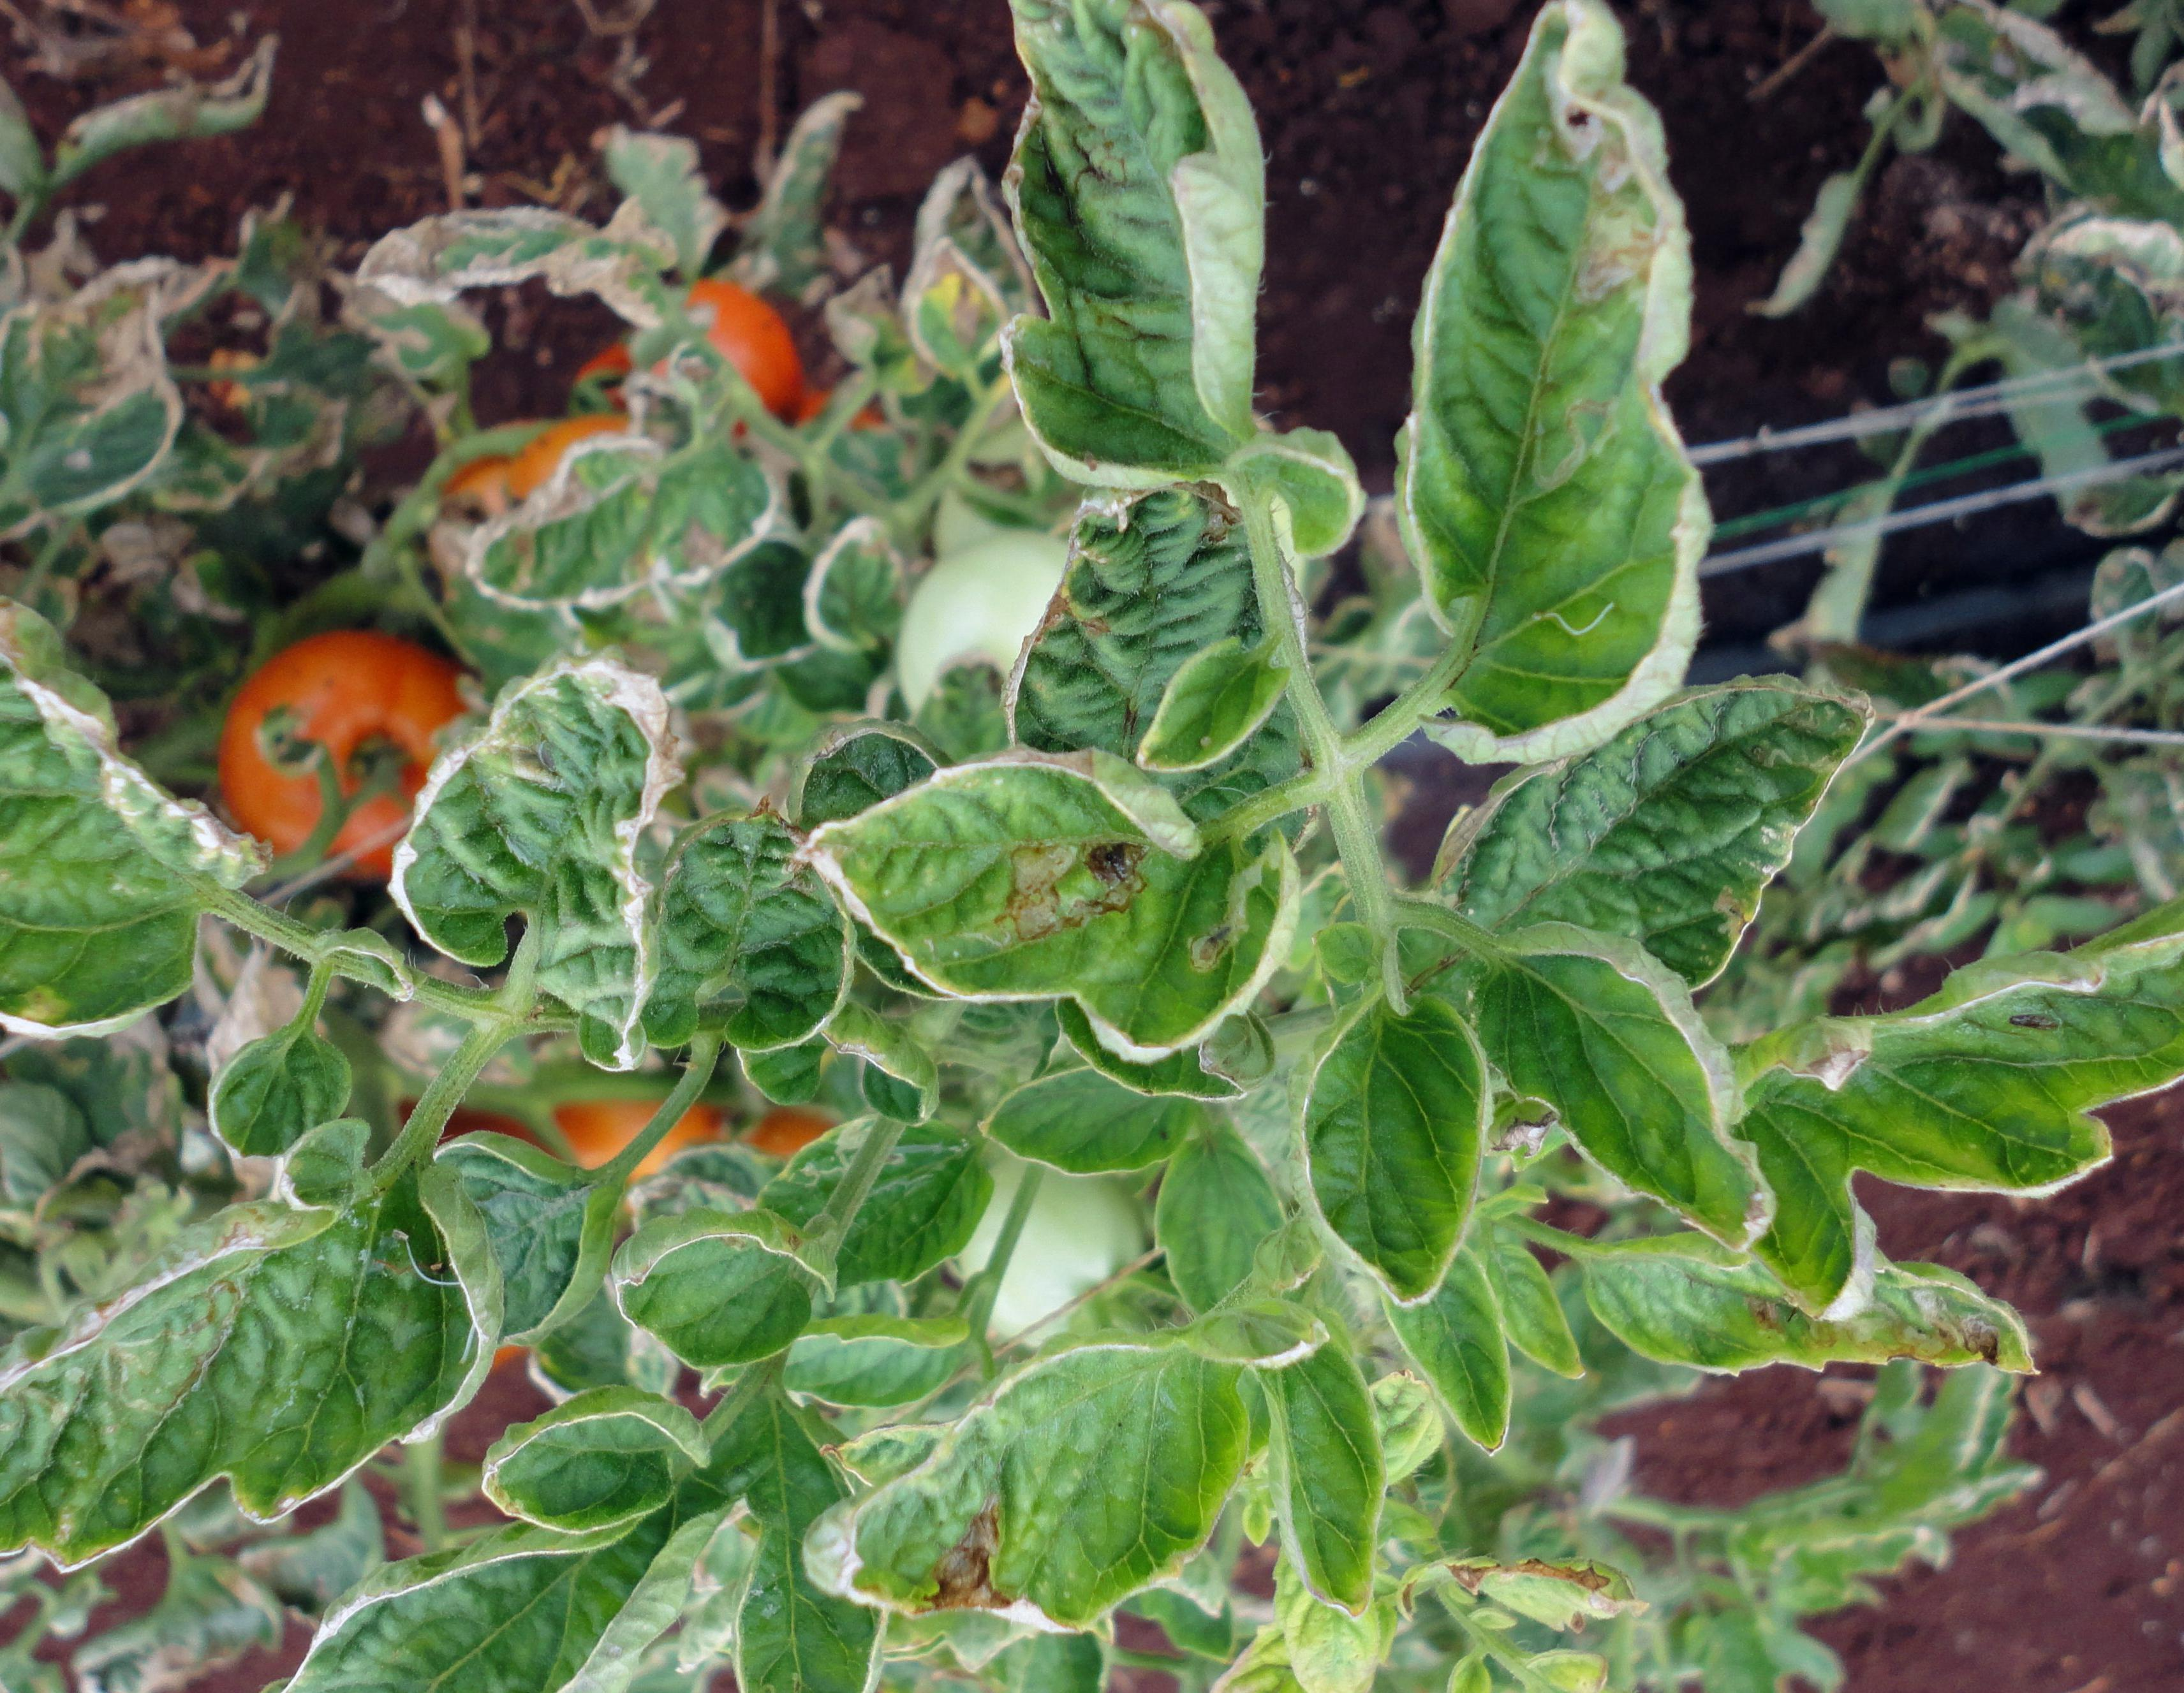Tomato leaf yellow virus: (784, 1243, 1432, 1675), (122, 1331, 895, 1693), (1386, 12, 1743, 785), (886, 0, 1393, 541), (1721, 771, 2184, 1363), (0, 1205, 544, 1583), (784, 755, 1306, 1143), (358, 507, 695, 1078), (0, 477, 252, 1057), (1480, 941, 1863, 1271), (1278, 989, 1578, 1324)
